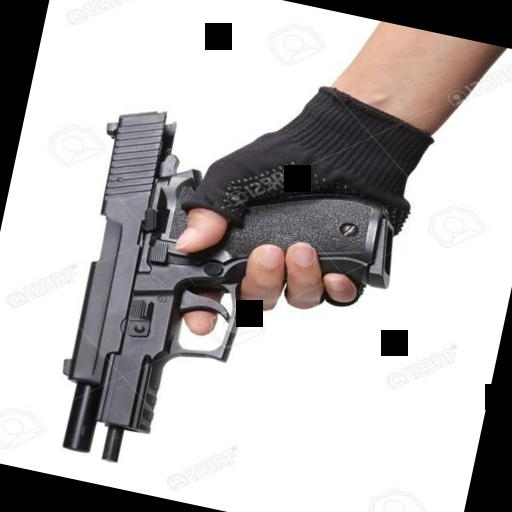Handgun: (39, 94, 413, 508)
